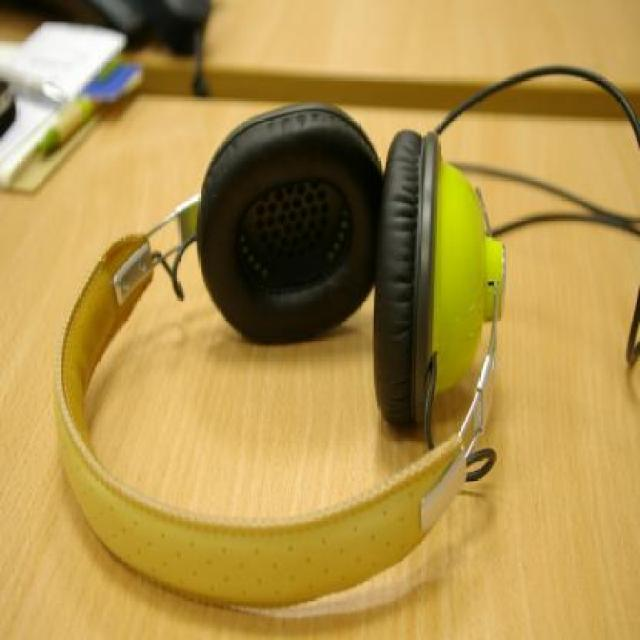earphone: (42, 87, 543, 580)
